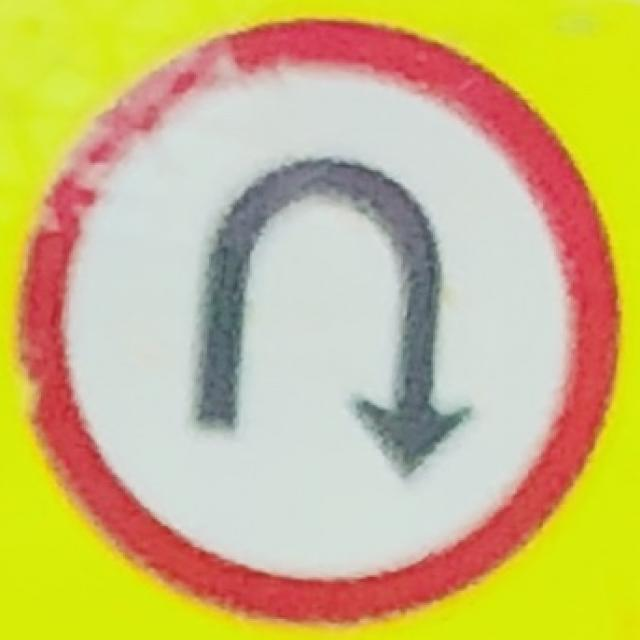u turn: (25, 23, 619, 621)
